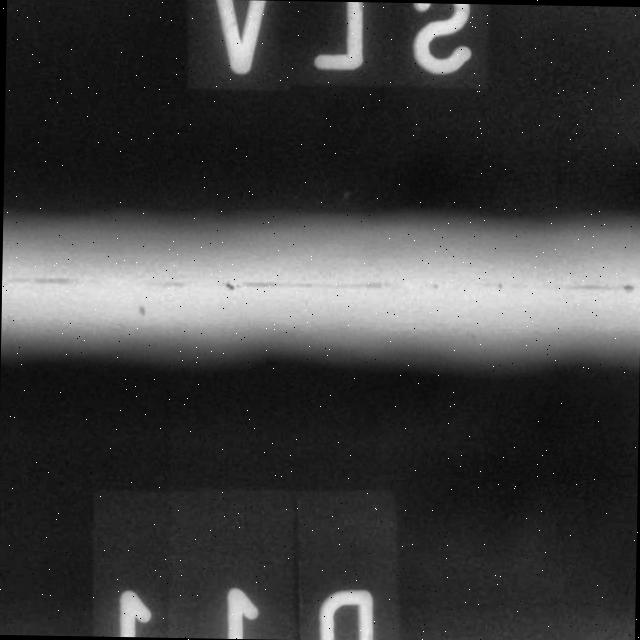LoP-LoF: (0, 238, 639, 320)
